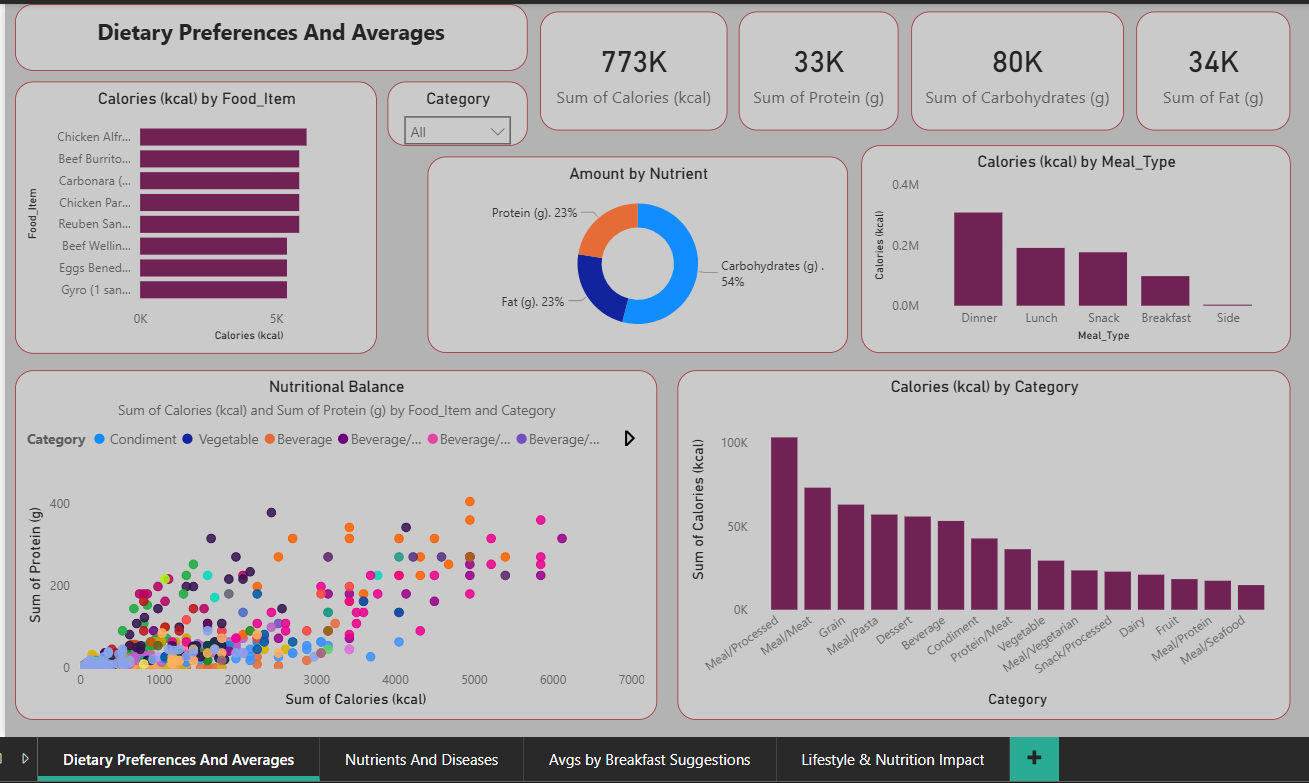

The dashboard page shown, as its layout file describes it:
{"tool":"powerbi","page":{"name":"Dietary Preferences And Averages","canvas":[1280,720],"ordinal":0},"visuals":[{"type":"textbox","box":[10,0,502.9,65.7],"z":0},{"type":"clusteredColumnChart","title":" Calories (kcal) by Category","fields":{"Category":["daily_food_nutrition_dataset.Category"],"Y":["Sum(daily_food_nutrition_dataset.Calories (kcal))"]},"box":[660,360,601.4,342.9],"z":1000},{"type":"slicer","title":"Category","fields":{"Values":["daily_food_nutrition_dataset.Category","daily_food_nutrition_dataset.Meal_Type"]},"box":[376,75.5,137.2,63.1],"z":2000},{"type":"donutChart","title":" Amount by Nutrient","fields":{"Category":["daily_food_nutrition_dataset.Nutrient"],"Y":["Sum(daily_food_nutrition_dataset.Amount)"]},"box":[414.3,150,412.9,192.9],"z":3000},{"type":"barChart","title":"Calories (kcal) by Food_Item","fields":{"Category":["daily_food_nutrition_dataset.Food_Item"],"Y":["Sum(daily_food_nutrition_dataset.Calories (kcal))"]},"box":[9.6,75.5,355.4,267.6],"z":4000},{"type":"columnChart","title":"Calories (kcal) by Meal_Type","fields":{"Y":["Sum(daily_food_nutrition_dataset.Calories (kcal))"],"Category":["daily_food_nutrition_dataset.Meal_Type"]},"box":[840,138.6,421.4,204.3],"z":5000},{"type":"scatterChart","title":"Nutritional Balance","fields":{"X":["Sum(daily_food_nutrition_dataset.Calories (kcal))"],"Y":["Sum(daily_food_nutrition_dataset.Protein (g))"],"Category":["daily_food_nutrition_dataset.Food_Item"],"Series":["daily_food_nutrition_dataset.Category"]},"box":[10,360,630,342.9],"z":6000},{"type":"card","fields":{"Values":["Sum(daily_food_nutrition_dataset.Calories (kcal))"]},"box":[525.7,7.1,184.3,117.1],"z":7000},{"type":"card","fields":{"Values":["Sum(daily_food_nutrition_dataset.Protein (g))"]},"box":[720,7.1,157.1,117.1],"z":8000},{"type":"card","fields":{"Values":["Sum(daily_food_nutrition_dataset.Carbohydrates (g))"]},"box":[890,7.1,208.6,117.1],"z":9000},{"type":"card","fields":{"Values":["Sum(daily_food_nutrition_dataset.Fat (g))"]},"box":[1110,7.1,151.4,117.1],"z":10000}]}

Visuals, with their boxes on the page's 1280x720 design canvas (x1, y1, x2, y2). These are canvas units, not pixel positions in the 1309x783 screenshot, which may show the page scaled, cropped or inside an application window:
textbox: BBox(10, 0, 513, 66)
" Calories (kcal) by Category" clusteredColumnChart: BBox(660, 360, 1261, 703)
"Category" slicer: BBox(376, 76, 513, 139)
" Amount by Nutrient" donutChart: BBox(414, 150, 827, 343)
"Calories (kcal) by Food_Item" barChart: BBox(10, 76, 365, 343)
"Calories (kcal) by Meal_Type" columnChart: BBox(840, 139, 1261, 343)
"Nutritional Balance" scatterChart: BBox(10, 360, 640, 703)
card - Sum(daily_food_nutrition_dataset.Calories (kcal)): BBox(526, 7, 710, 124)
card - Sum(daily_food_nutrition_dataset.Protein (g)): BBox(720, 7, 877, 124)
card - Sum(daily_food_nutrition_dataset.Carbohydrates (g)): BBox(890, 7, 1099, 124)
card - Sum(daily_food_nutrition_dataset.Fat (g)): BBox(1110, 7, 1261, 124)
